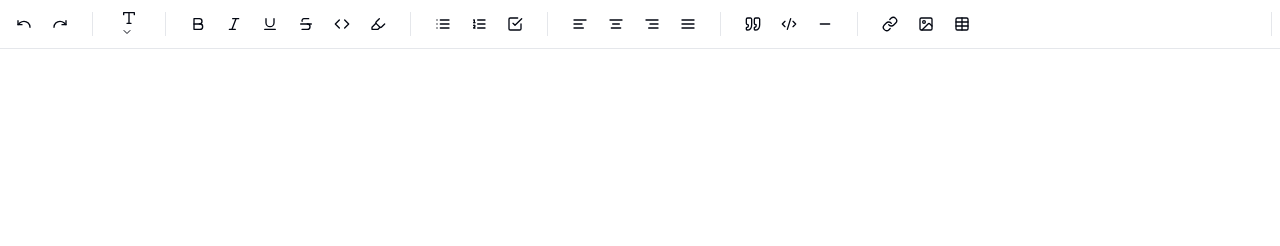
Enhanced Note Editor - Accessibility Tests › Focus Management › should handle focus trapping in modal dialogs
The width and height of the screenshot is (1280, 246).
# Open link dialog
Click the button titled "Add Link" at (890, 24), box [874,8,906,40]
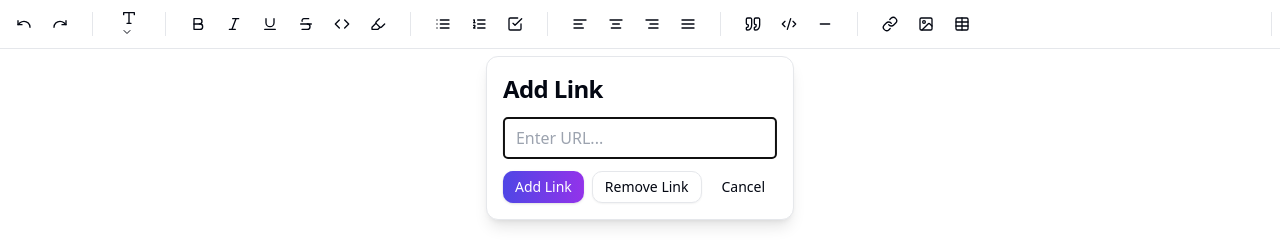
Result: the heading "Add Link" is shown at [503,72,603,105]
Result: the field with placeholder "Enter URL..." is shown at [503,117,777,159]
